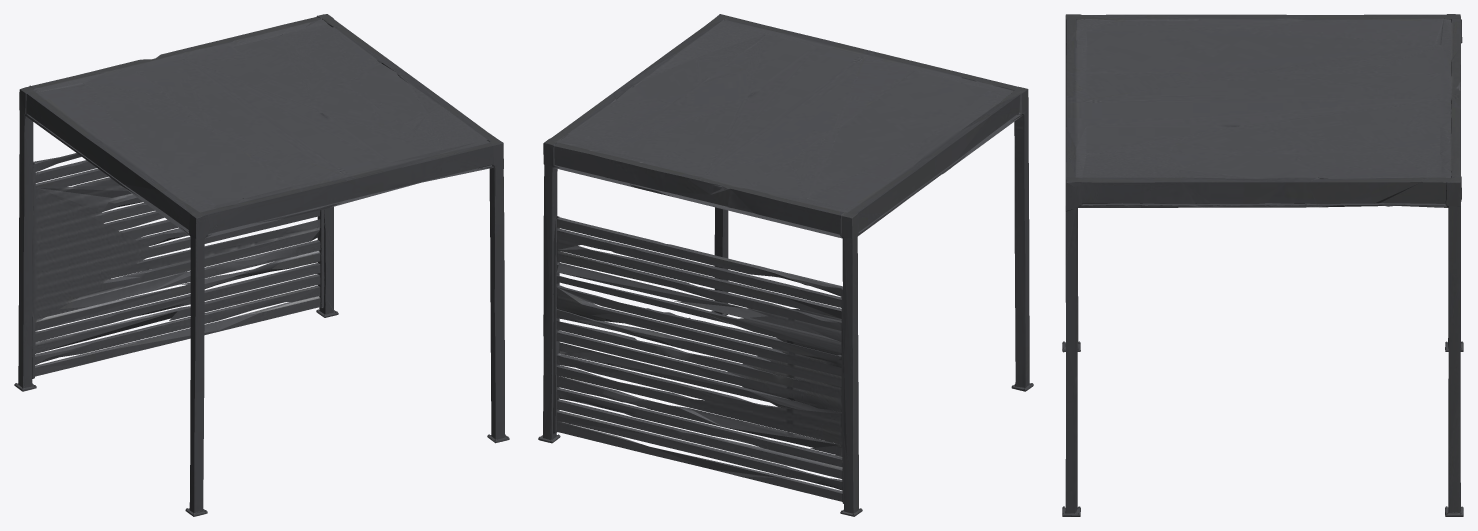
File: gazebo-modern-aluminium-dark-3x3.glb
3 renders of one model, left to right at view 1: azimuth 30°, elevation 25°; view 2: azimuth 150°, elevation 25°; view 3: azimuth 270°, elevation 25°, orthographic. The views are drawn at different scales.
Parts seen in each view (by area): view 1: Mesh_0; view 2: Mesh_0; view 3: Mesh_0.
Part boxes in pixels (box(x1,y1,x2,y2)): Mesh_0: box(14, 14, 509, 516); Mesh_0: box(538, 14, 1033, 516); Mesh_0: box(1062, 14, 1463, 516).
Size of the model in its own units: 3 by 2.7 by 2.95.
1 material, 1 textured.
